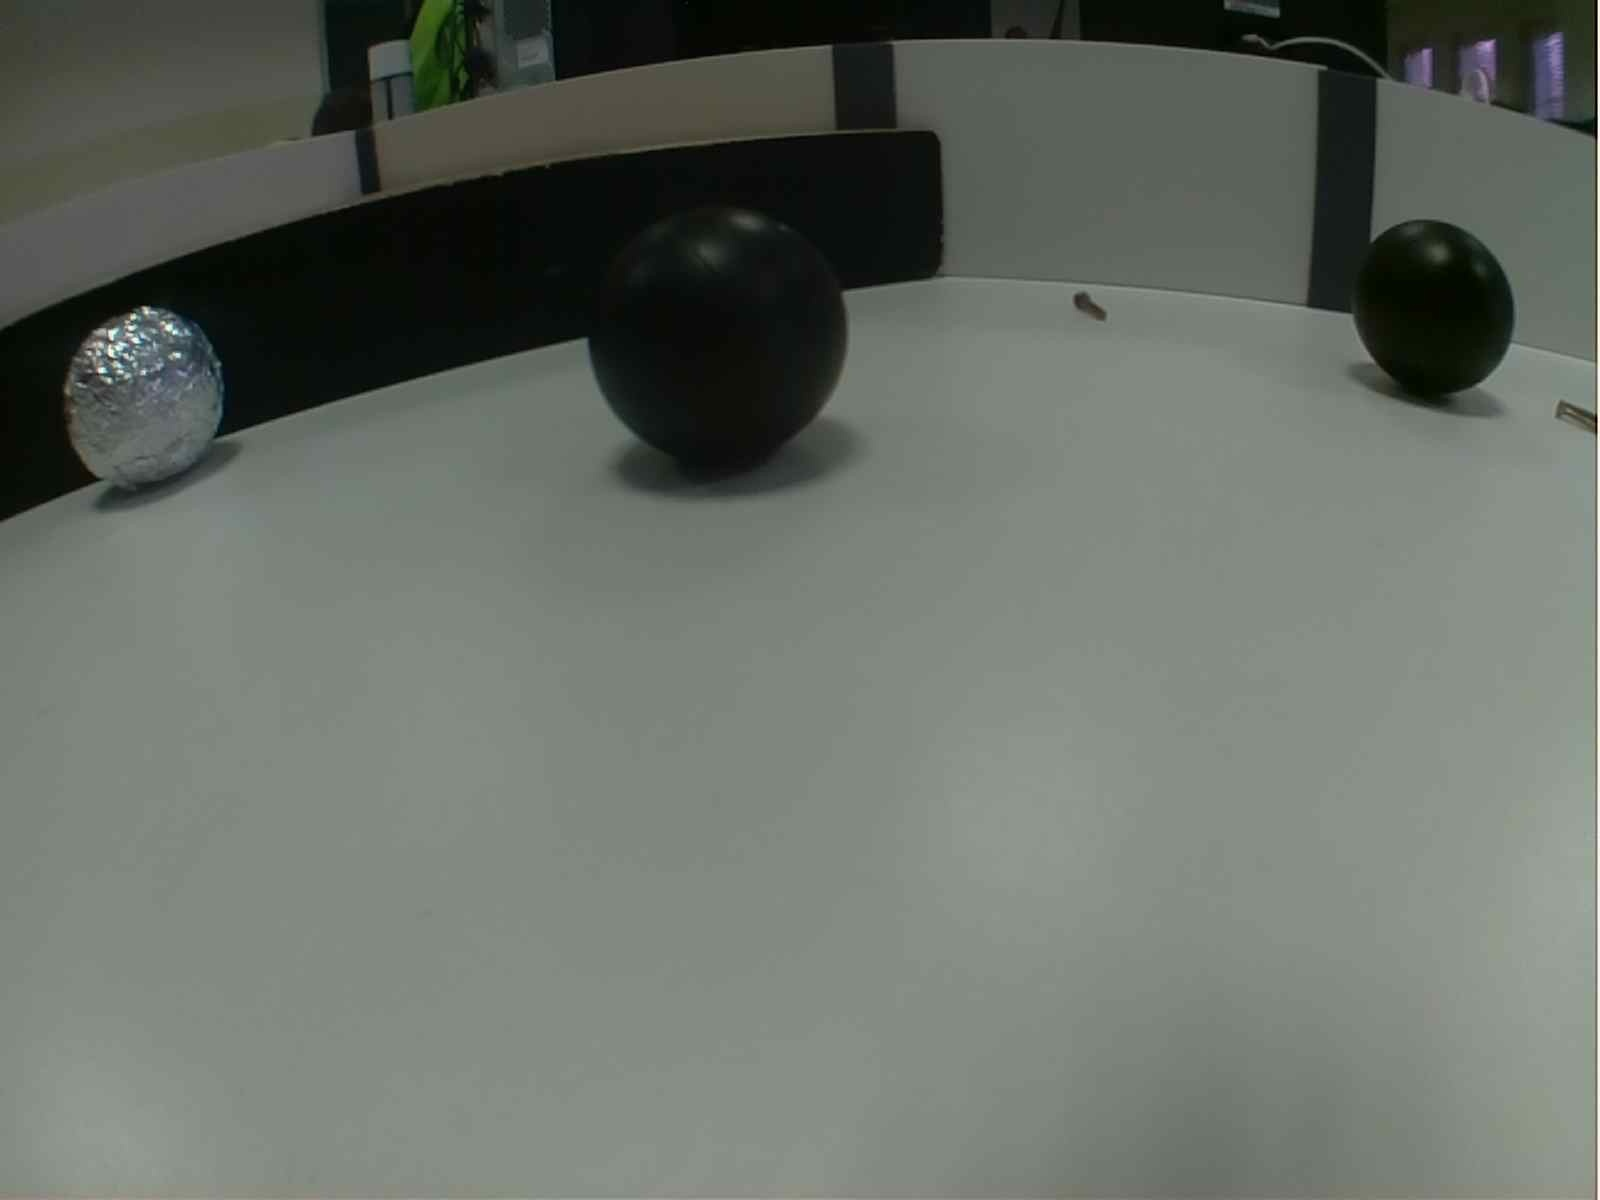bianca: (60, 303, 231, 499)
nera: (581, 190, 866, 482), (1343, 213, 1517, 396)
